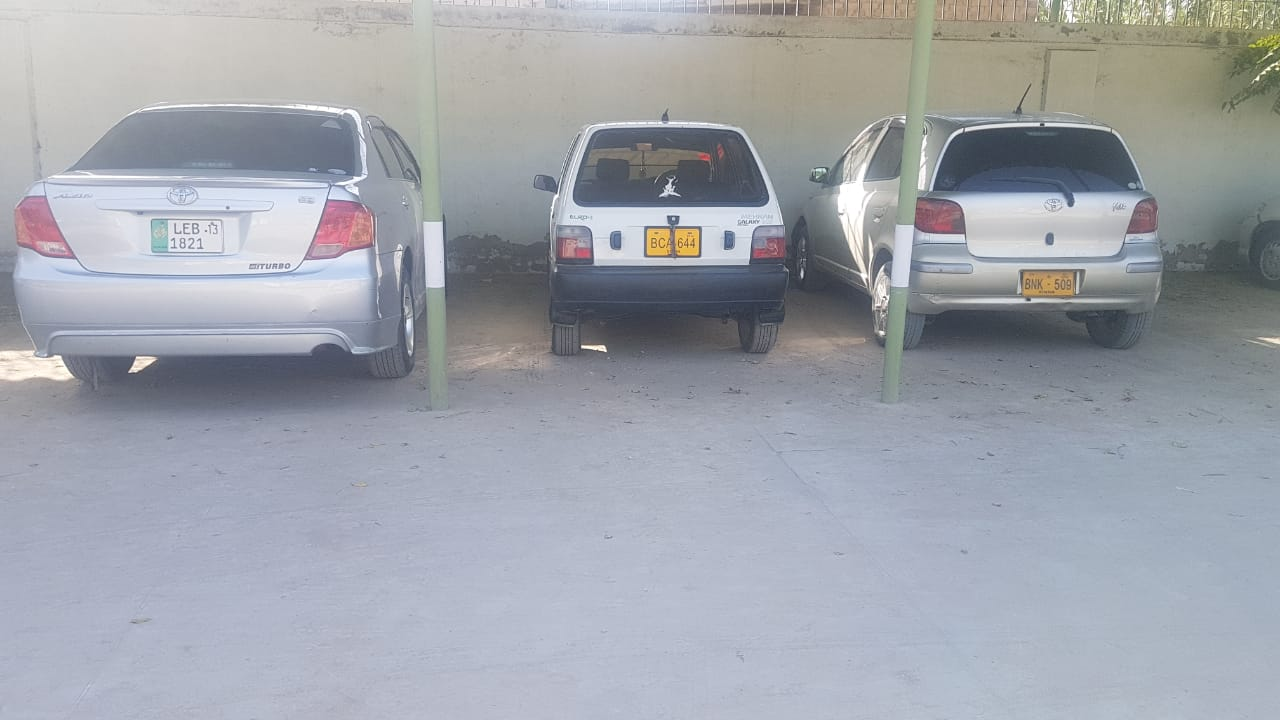license plate: (150, 218, 225, 254), (645, 227, 700, 255), (1021, 272, 1077, 297)
